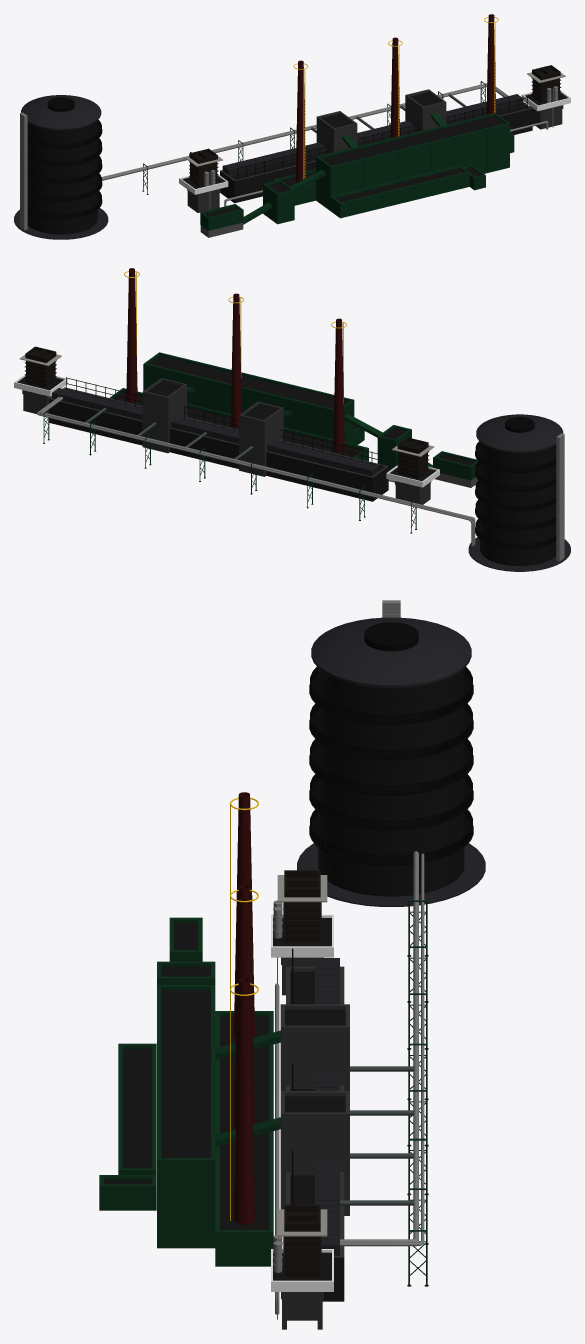
3 renders of one model, top to bottom at view 1: azimuth 30°, elevation 25°; view 2: azimuth 150°, elevation 25°; view 3: azimuth 270°, elevation 25°, orthographic. The views are drawn at different scales.
Visible parts, largest first — view 1: Box1076, Object005, Object058, Box1077, Cylinder001, Object003, Object078, Box1082, Box1083, Box1084, Box1079, Line109 (+20 smaller); view 2: Object005, Box1082, Box1076, Object058, Cylinder001, Object003, Box1084, Box1083, Object078, Line109, Object086, Cylinder671 (+16 smaller); view 3: Object005, Cylinder001, Object078, Object003, Box1076, Object086, Box1083, Box1084, Box1081, Cylinder511, Object076, Object058 (+19 smaller).
Boxes of the visible parts, <box> form: Box1076: <box>316,113,509,210</box>; Object005: <box>27,120,97,234</box>; Object058: <box>222,94,523,176</box>; Box1077: <box>330,165,469,218</box>; Cylinder001: <box>27,119,102,219</box>; Object003: <box>21,95,101,130</box>; Object078: <box>321,116,504,165</box>; Box1082: <box>220,102,532,203</box>; Box1083: <box>405,89,446,132</box>; Box1084: <box>316,111,357,154</box>; Box1079: <box>263,180,294,224</box>; Line109: <box>102,84,506,180</box>; Object005: <box>480,442,556,565</box>; Box1082: <box>49,387,388,501</box>; Box1076: <box>143,352,354,444</box>; Object058: <box>52,388,378,476</box>; Cylinder001: <box>475,441,556,549</box>; Object003: <box>476,414,563,452</box>; Box1084: <box>239,401,283,476</box>; Box1083: <box>142,378,186,453</box>; Object078: <box>149,355,348,408</box>; Line109: <box>39,396,475,545</box>; Object086: <box>113,391,363,457</box>; Cylinder671: <box>333,318,344,452</box>; Object005: <box>318,668,464,896</box>; Cylinder001: <box>309,667,473,865</box>; Object078: <box>161,990,210,1158</box>; Object003: <box>311,617,471,687</box>; Box1076: <box>157,985,215,1248</box>; Object086: <box>220,1016,269,1230</box>; Box1083: <box>280,1091,349,1215</box>; Box1084: <box>280,1004,349,1090</box>; Box1081: <box>215,1011,273,1266</box>; Cylinder511: <box>234,978,254,1224</box>; Object076: <box>122,1049,152,1168</box>; Object058: <box>315,958,339,1255</box>.
Size of the model in its own units: 1408 by 350 by 453.
